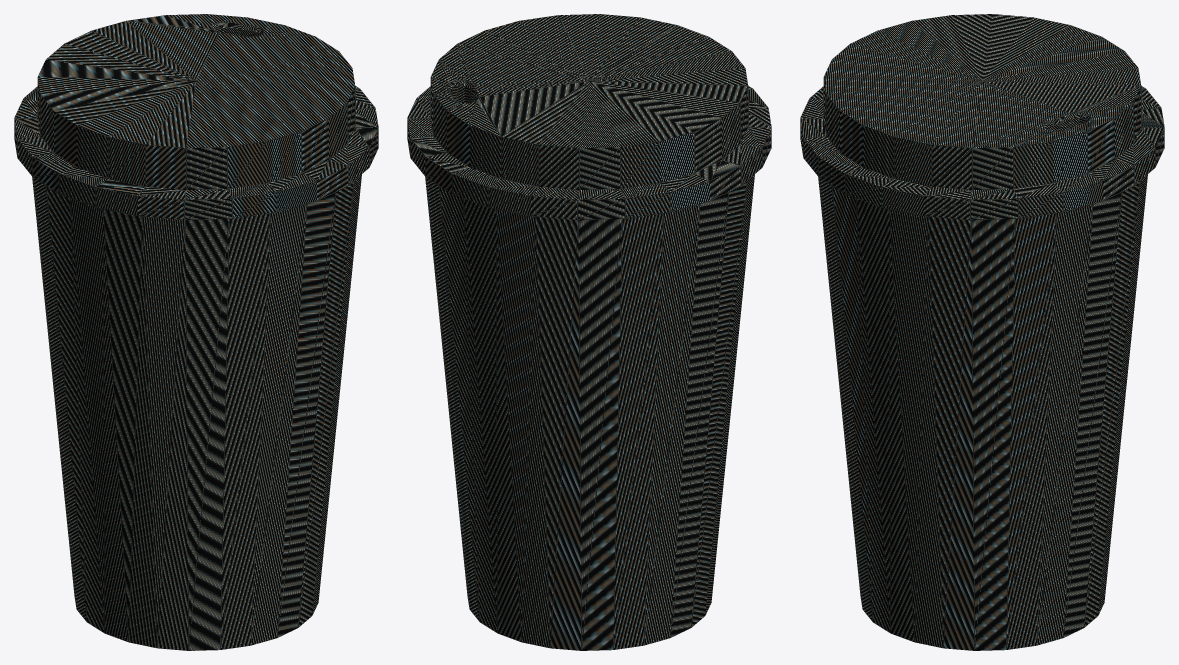
Rendered from cup.gltf.
3 renders of one model, left to right at view 1: azimuth 30°, elevation 25°; view 2: azimuth 150°, elevation 25°; view 3: azimuth 270°, elevation 25°, orthographic.
Parts seen in each view (by area): view 1: COCKPIT_COFFEE_R; view 2: COCKPIT_COFFEE_R; view 3: COCKPIT_COFFEE_R.
Part boxes in pixels (x1=…): COCKPIT_COFFEE_R: x1=14, y1=14, x2=378, y2=650; COCKPIT_COFFEE_R: x1=407, y1=14, x2=771, y2=650; COCKPIT_COFFEE_R: x1=800, y1=14, x2=1164, y2=650.
Bounding box in the file's own units: 0.081 × 0.1271 × 0.081.
